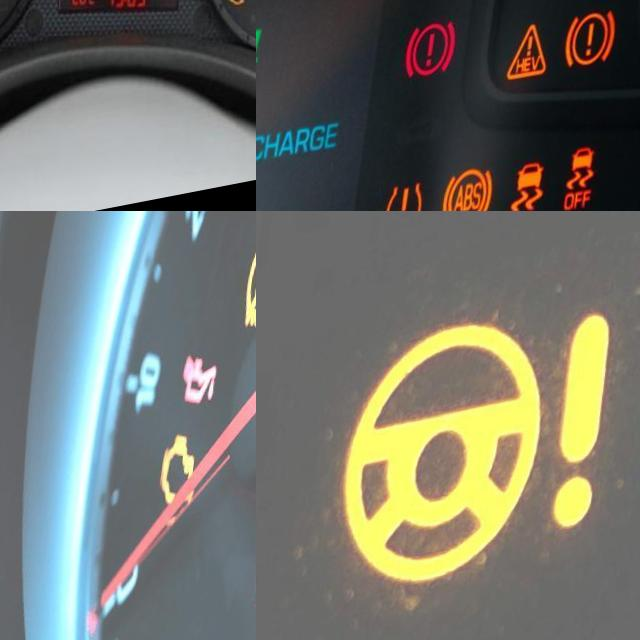Electronic Power Steering: (342, 312, 629, 616)
